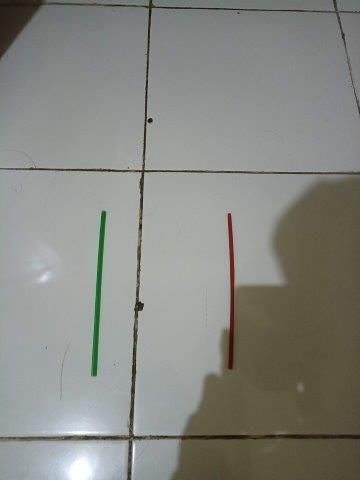sedotan: (91, 211, 106, 376), (227, 213, 235, 369)
